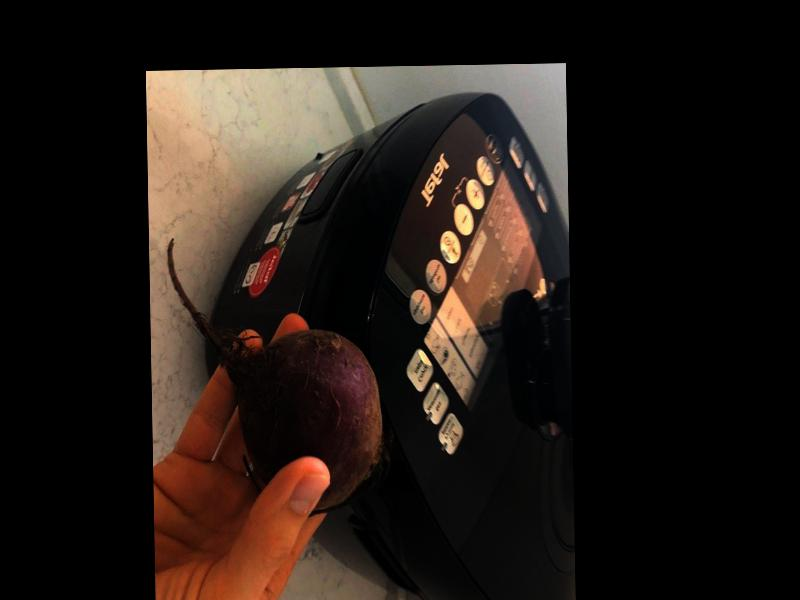Beet: (168, 235, 393, 516)
